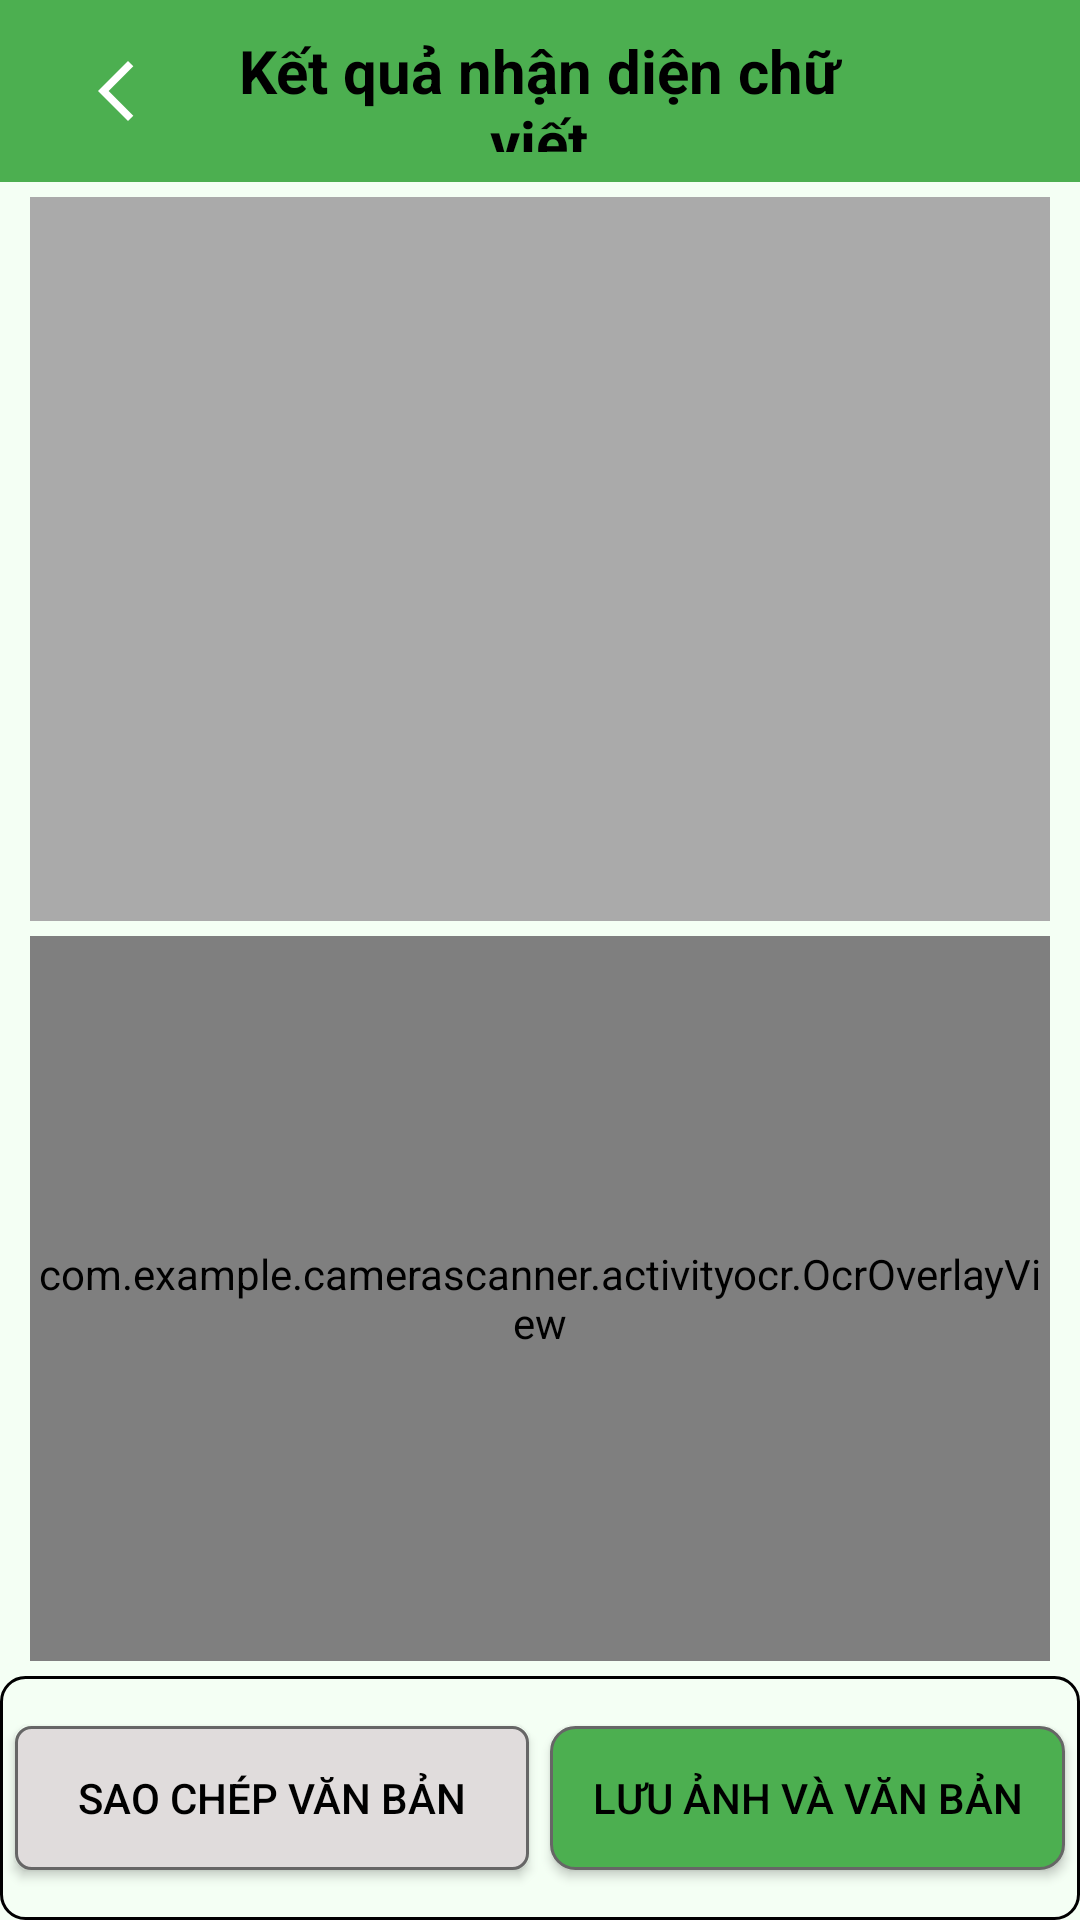

Icons on this 1080×1920 Android screen, each with the point to tap as (x=x, y=y):
Quay lại: (x=115, y=91)
